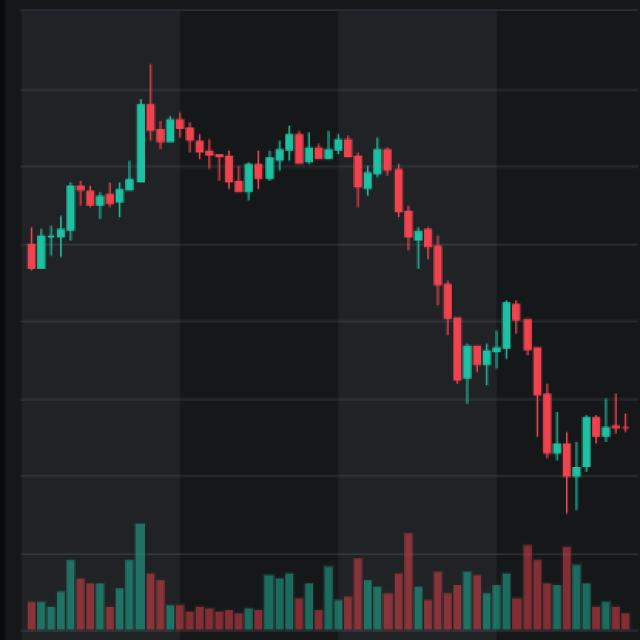Support-breakout: (130, 96, 468, 398)
